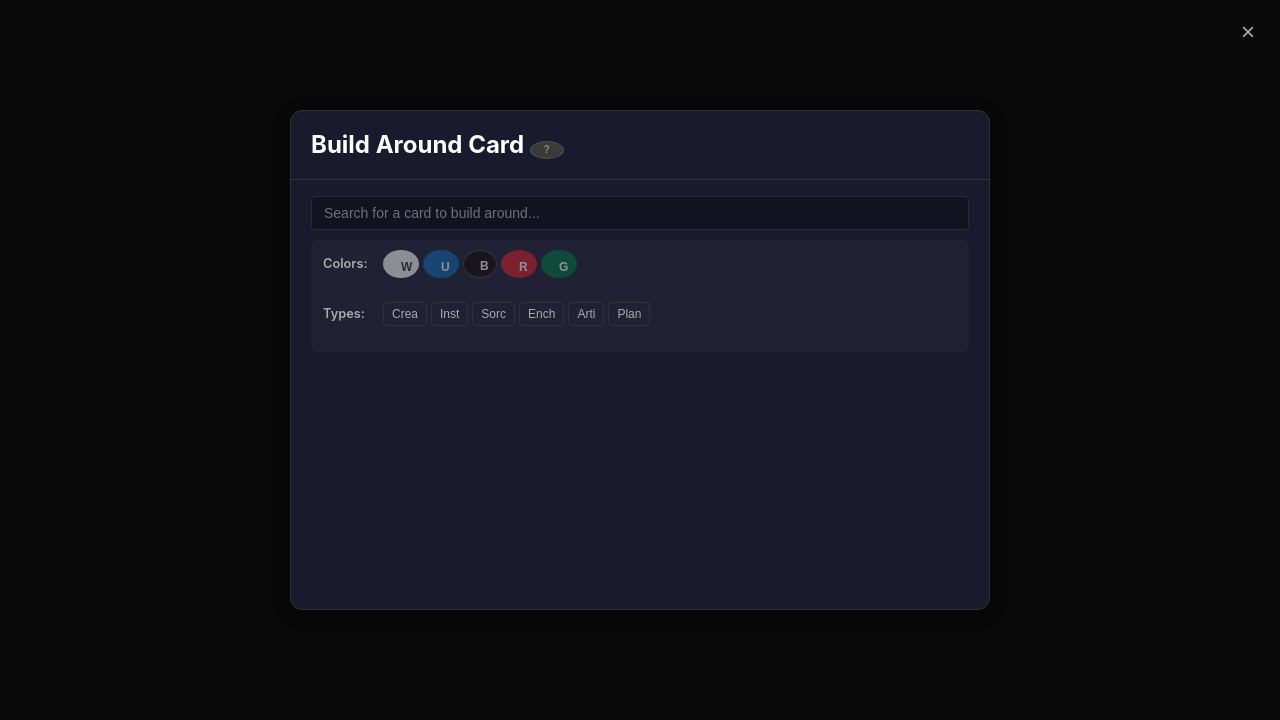
Test: BuildAroundSeedModal › Search Filters › should filter search results by color when color button is clicked
The image size is (1280, 720).
// Search for cards
Type "Card" into the field with placeholder "Search for a card to build around...".
click(640, 213); type("Card")  # box [311,196,969,230]
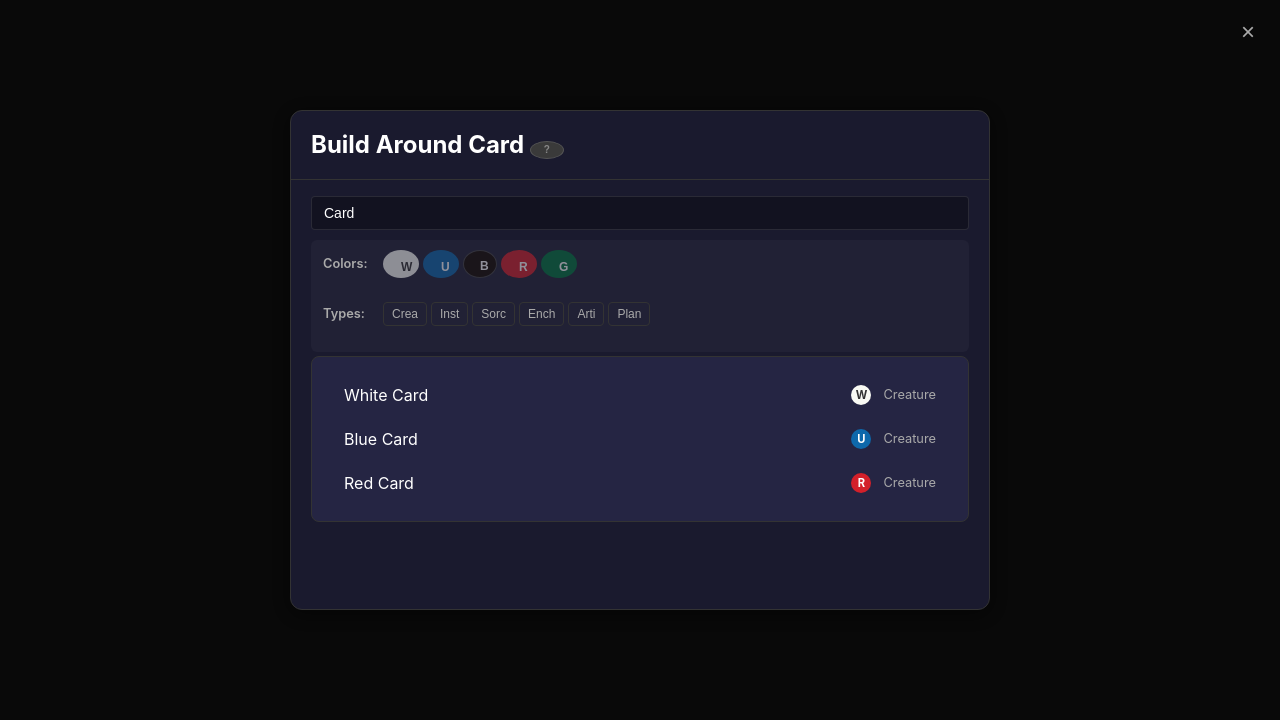
Now the text "White Card" is shown, box [344,385,428,405]
Now the text "Blue Card" is shown, box [344,429,418,449]
Now the text "Red Card" is shown, box [344,473,414,493]
// Click the White color filter button
Click the button titled "White".
click(401, 264)  # box [383,250,419,278]
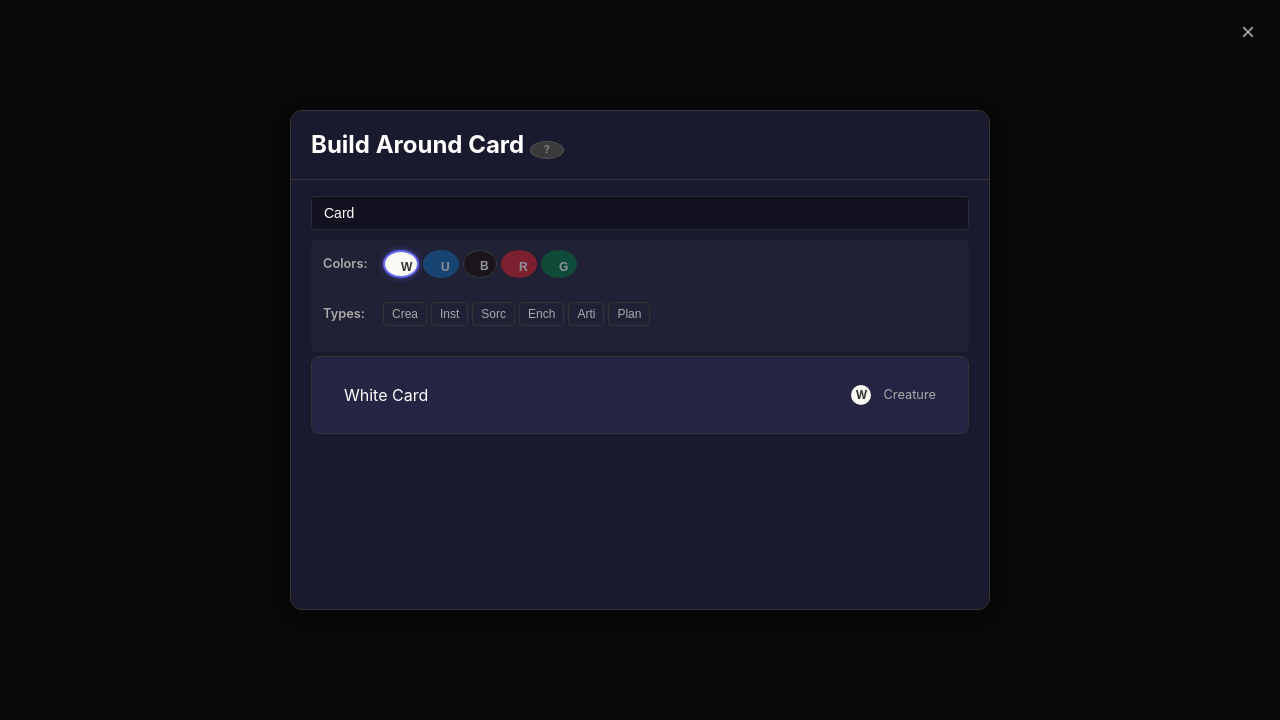
Now the text "White Card" is shown, box [344,385,428,405]
Now the text "Blue Card" is gone
Now the text "Red Card" is gone
